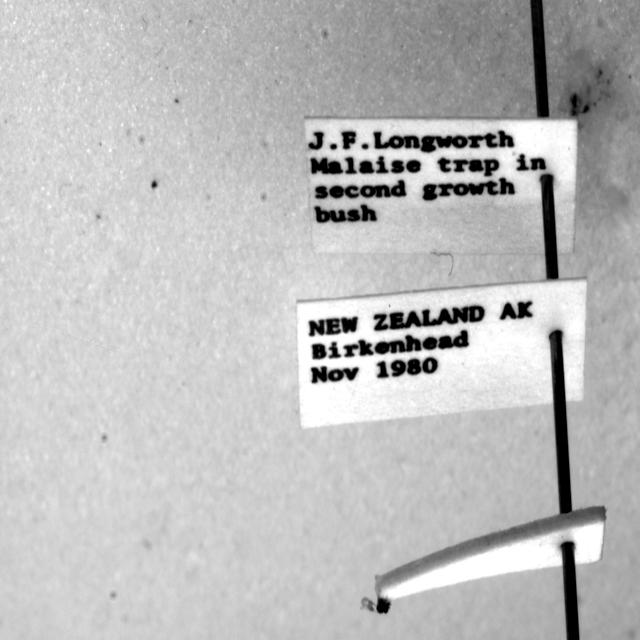typed_label: (296, 279, 586, 428), (305, 118, 578, 253)
